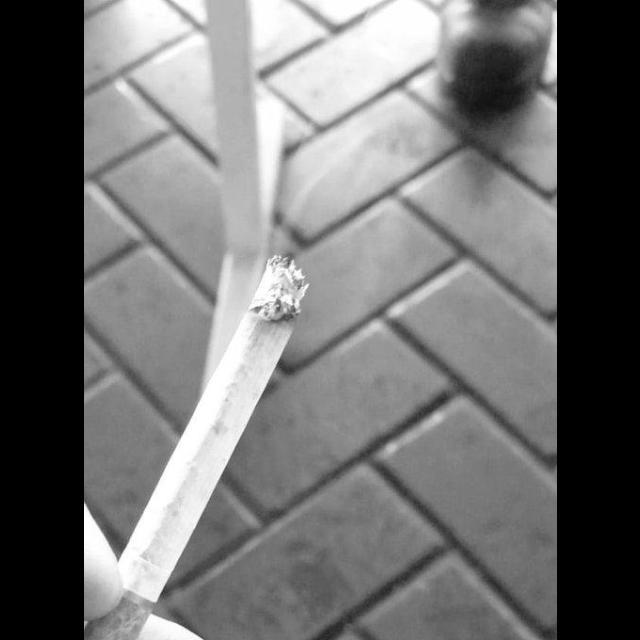rokok: (88, 250, 308, 640)
